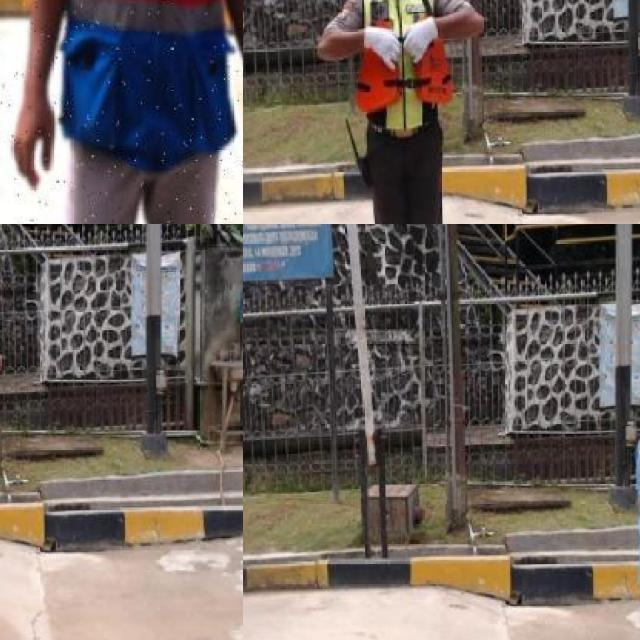apron: (400, 14, 440, 65), (362, 23, 402, 72)
